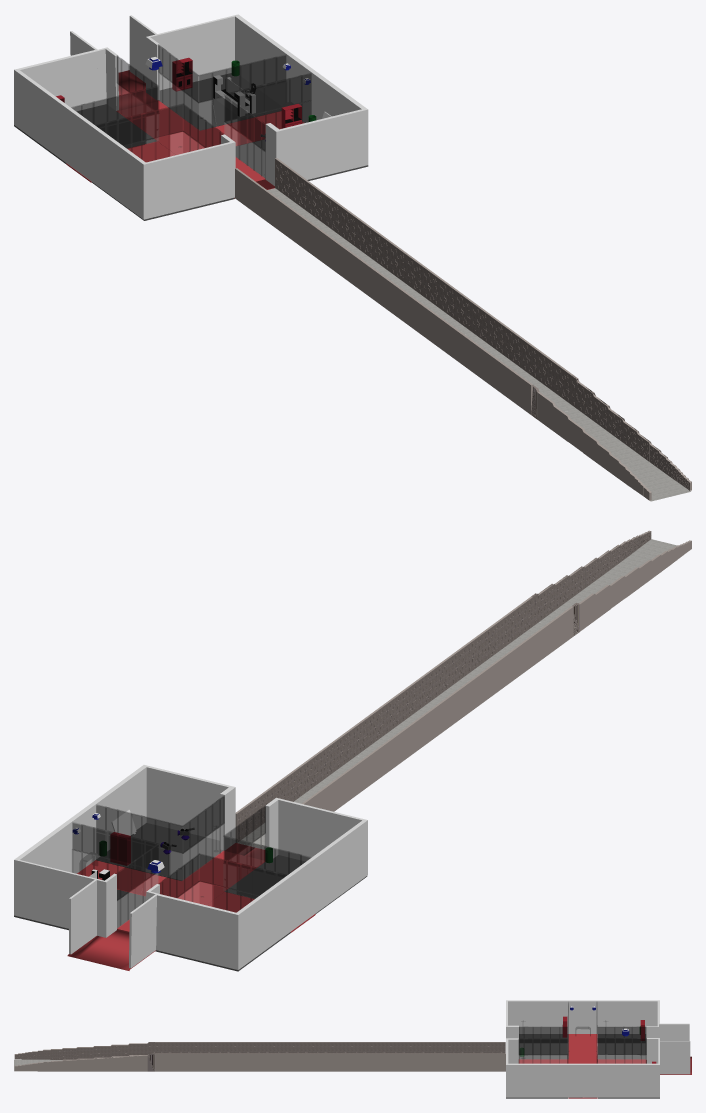
File: koridor.fbx
The picture shows the model from 3 angles, top to bottom: view 1: azimuth 30°, elevation 25°; view 2: azimuth 150°, elevation 25°; view 3: azimuth 270°, elevation 25°; orthographic projection. The views are drawn at different scales.
Parts seen in each view (by area): view 1: Contrete Wall.003, Askılık, Cube.001, Cube.003, Cube.004, Cube.002; view 2: Contrete Wall.003, Askılık, Cube.001, Cube.003, Cube.004, Cube.002; view 3: Contrete Wall.003, Cube.001, Askılık, Cube.003, Cube.002, Cube.004.
Part boxes in pixels (x1,y1,x2,y2): Contrete Wall.003: (235, 158, 691, 501); Askılık: (14, 44, 368, 220); Cube.001: (129, 14, 368, 185); Cube.003: (14, 50, 147, 219); Cube.004: (146, 134, 235, 218); Cube.002: (70, 31, 118, 110); Contrete Wall.003: (235, 530, 691, 849); Askılık: (14, 796, 367, 971); Cube.001: (14, 765, 235, 954); Cube.003: (156, 819, 367, 969); Cube.004: (265, 797, 363, 861); Cube.002: (129, 884, 159, 968); Contrete Wall.003: (14, 1042, 505, 1071); Cube.001: (506, 1038, 690, 1097); Askılık: (506, 1003, 691, 1098); Cube.003: (506, 1000, 659, 1033); Cube.002: (646, 1023, 689, 1059); Cube.004: (506, 1001, 518, 1058).
Size of the model in its own units: 15450 by 4067 by 68205.
21 materials, 2 textured.
